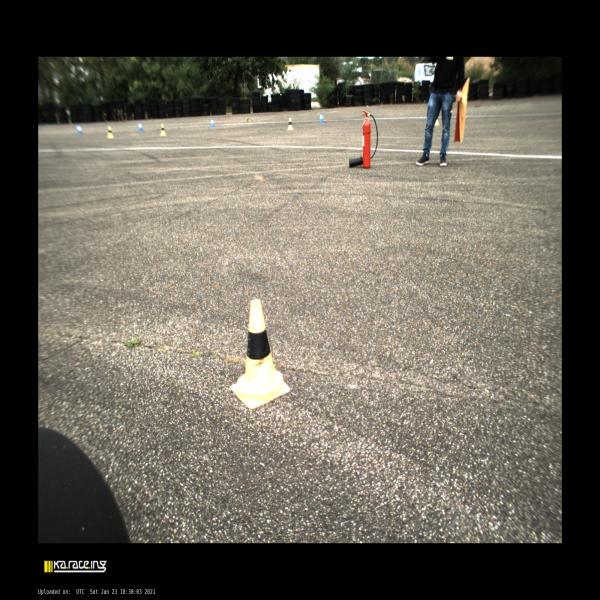blue_cone: (76, 124, 83, 134), (319, 112, 324, 123), (138, 122, 143, 131), (210, 118, 215, 127)
yellow_cone: (231, 300, 290, 408), (287, 117, 294, 131), (160, 123, 166, 136), (108, 126, 114, 138), (435, 118, 440, 126)
